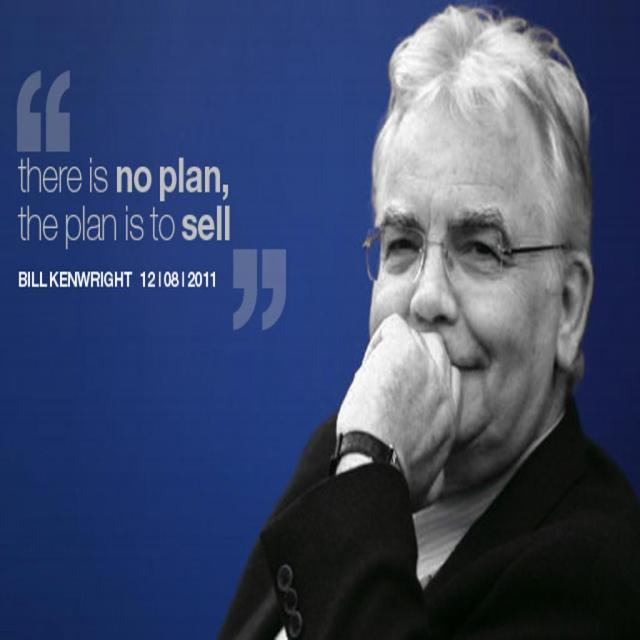nomask: (371, 90, 560, 475)
